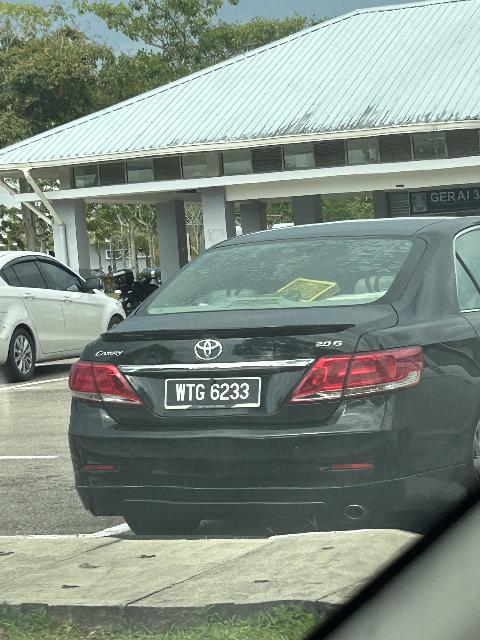License_Plate: (164, 380, 261, 409)
car: (62, 220, 480, 534)
